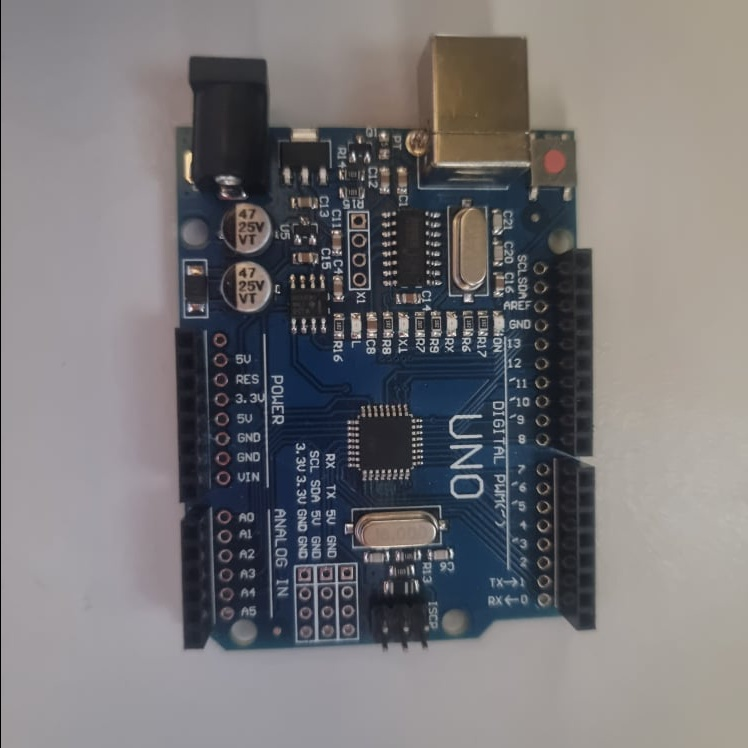UNO R3: (179, 34, 592, 657)
